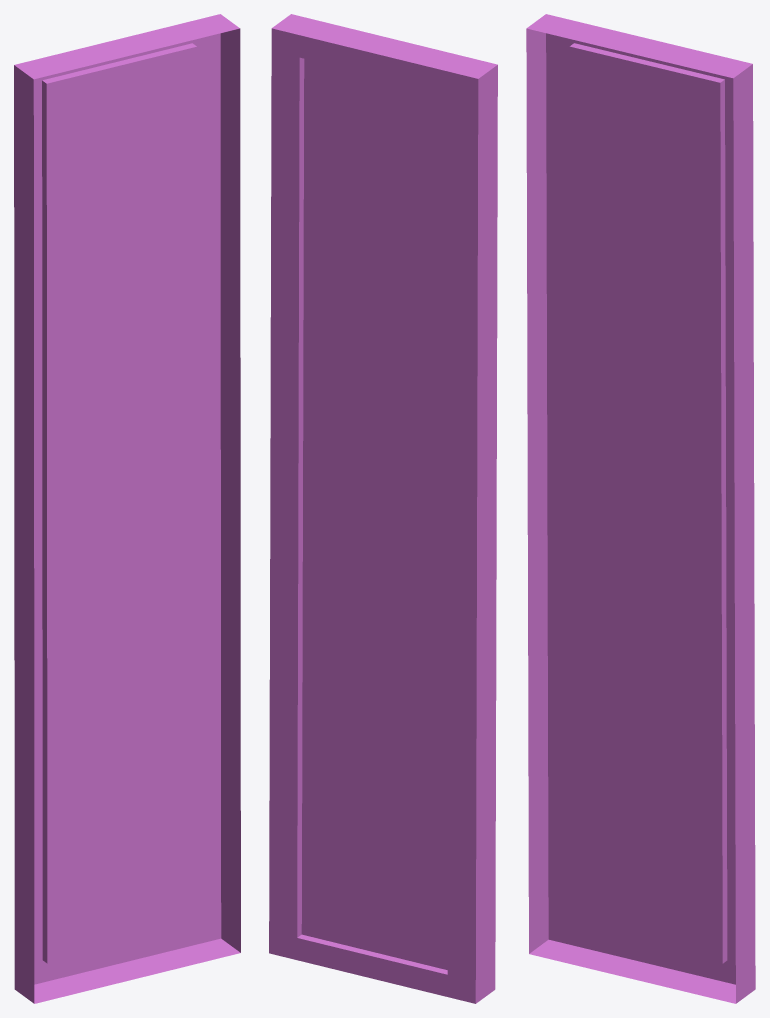
Rendered from WallPlantHolder_mesh.fbx.
The picture shows the model from 3 angles, left to right: view 1: azimuth 30°, elevation 25°; view 2: azimuth 150°, elevation 25°; view 3: azimuth 330°, elevation 25°; orthographic projection.
Parts seen in each view (by area): view 1: WallPlantHolder_mesh; view 2: WallPlantHolder_mesh; view 3: WallPlantHolder_mesh.
Boxes of the visible parts, <box> form: WallPlantHolder_mesh: <box>14,14,240,1003</box>; WallPlantHolder_mesh: <box>269,14,497,1003</box>; WallPlantHolder_mesh: <box>526,14,755,1003</box>.
Bounding box in the file's own units: 993 × 4219 × 172.
